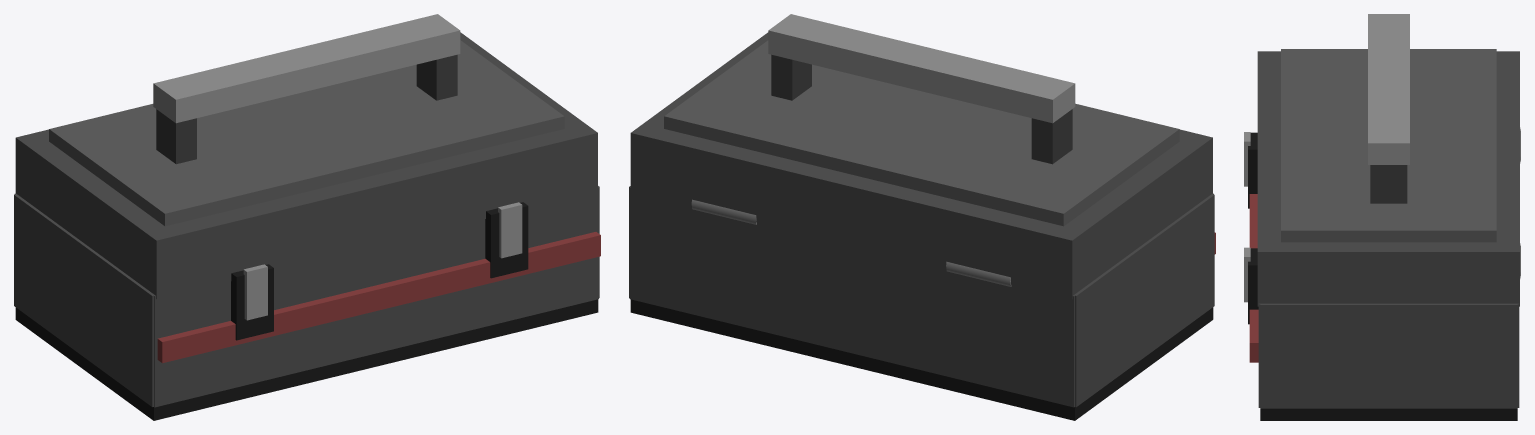
Rendered from CMU3DUtilityRMCToolboxSyndicateFilledCloud.glb.
3 renders of one model, left to right at view 1: azimuth 30°, elevation 25°; view 2: azimuth 150°, elevation 25°; view 3: azimuth 270°, elevation 25°, orthographic. The views are drawn at different scales.
Parts seen in each view (by area): view 1: independent closed lid, raised lid field, structural end wall -1, structural side wall -1, open grip silver crossbar, source colored front band, structural bottom pan, front latch socket 0.17, front latch socket -0.17, carry handle leg -0.174, carry handle leg 0.174, front metal latch plate -0.17 (+1 smaller); view 2: structural end wall 1, independent closed lid, raised lid field, structural side wall -1, open grip silver crossbar, structural bottom pan, carry handle leg -0.174, carry handle leg 0.174, back hinge 0.17, back hinge -0.17; view 3: raised lid field, structural side wall 1, independent closed lid, open grip silver crossbar, structural bottom pan, carry handle leg 0.174, source colored front band, front latch socket 0.17, front latch socket -0.17, structural end wall -1, structural end wall 1, front metal latch plate 0.17.
Part boxes in pixels (<box>): independent closed lid: <box>15,32,597,299</box>; raised lid field: <box>49,40,564,226</box>; structural end wall -1: <box>141,187,598,407</box>; structural side wall -1: <box>14,194,154,406</box>; open grip silver crossbar: <box>153,14,460,123</box>; source colored front band: <box>157,232,600,363</box>; structural bottom pan: <box>15,299,598,420</box>; front latch socket 0.17: <box>485,202,528,278</box>; front latch socket -0.17: <box>231,264,273,340</box>; carry handle leg -0.174: <box>156,109,196,164</box>; carry handle leg 0.174: <box>416,54,457,100</box>; front metal latch plate -0.17: <box>243,264,267,320</box>; structural end wall 1: <box>629,187,1087,407</box>; independent closed lid: <box>630,32,1212,299</box>; raised lid field: <box>664,40,1179,226</box>; structural side wall -1: <box>1074,194,1214,407</box>; open grip silver crossbar: <box>768,14,1075,123</box>; structural bottom pan: <box>630,299,1213,420</box>; carry handle leg -0.174: <box>1031,109,1072,164</box>; carry handle leg 0.174: <box>771,54,811,100</box>; back hinge 0.17: <box>691,199,756,224</box>; back hinge -0.17: <box>946,261,1011,286</box>; raised lid field: <box>1281,49,1496,242</box>; structural side wall 1: <box>1260,303,1517,408</box>; independent closed lid: <box>1257,51,1519,306</box>; open grip silver crossbar: <box>1368,14,1409,164</box>; structural bottom pan: <box>1260,408,1517,420</box>; carry handle leg 0.174: <box>1370,165,1407,203</box>; source colored front band: <box>1249,194,1258,362</box>; front latch socket 0.17: <box>1248,248,1258,324</box>; front latch socket -0.17: <box>1248,132,1257,208</box>; structural end wall -1: <box>1258,303,1283,407</box>; structural end wall 1: <box>1494,303,1519,407</box>; front metal latch plate 0.17: <box>1244,247,1250,302</box>.
Size of what is drawn, in the model's own units: 0.5978 by 0.331 by 0.344.
